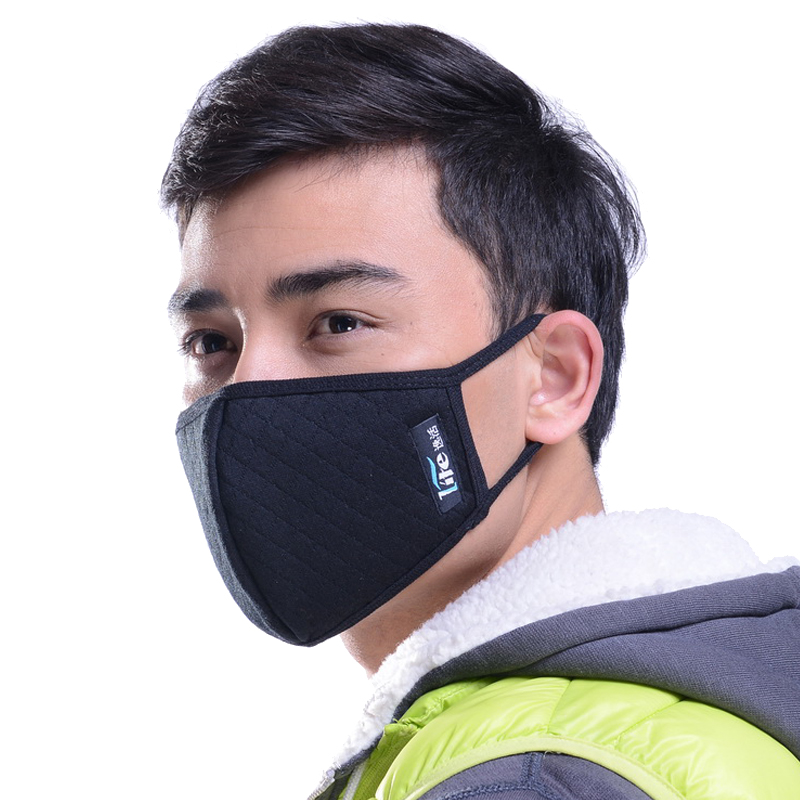face_mask: (171, 158, 511, 589)
